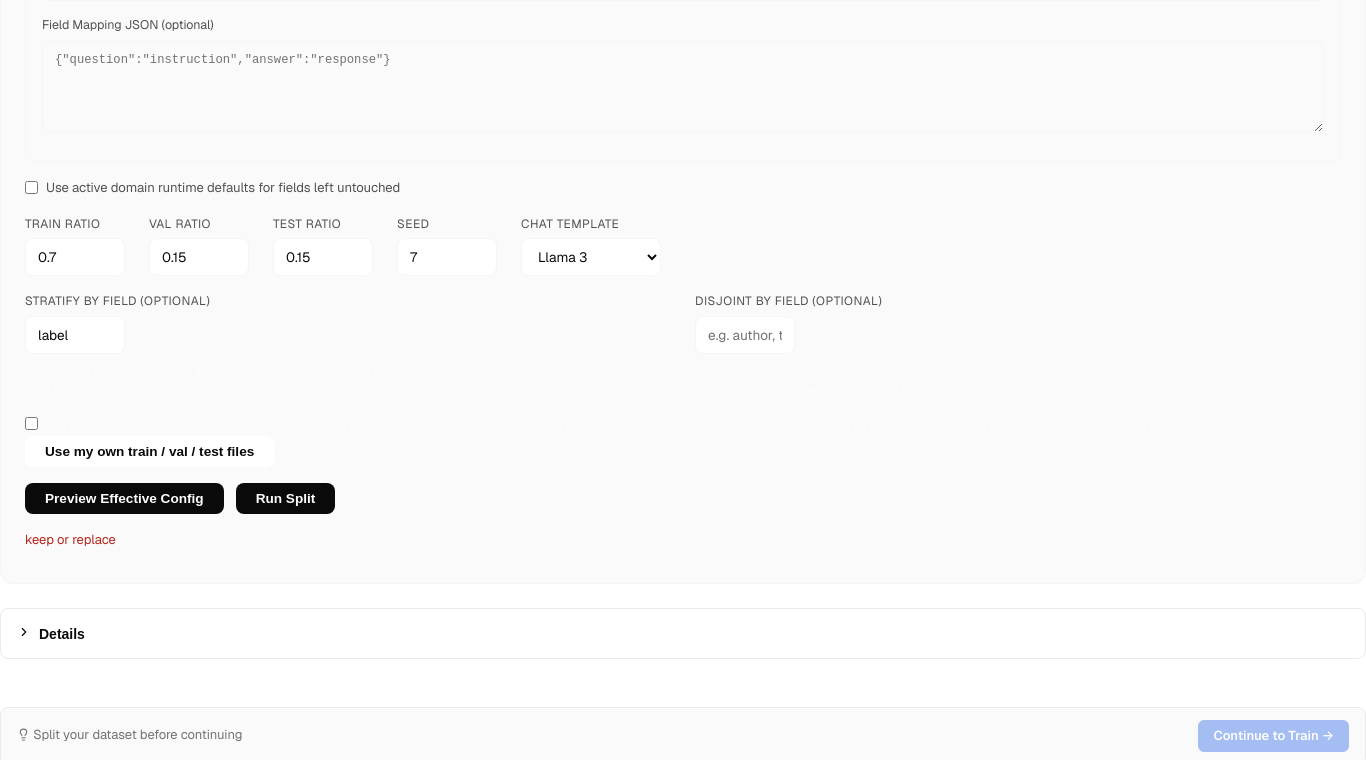
it: DatasetPrepPanel — split-form hydration from the active prepared version › shows the replace option when the split fails with the would-be-replaced 409
(page scrolled)
Click the button "Run Split": (285, 499) [236, 483, 335, 514]
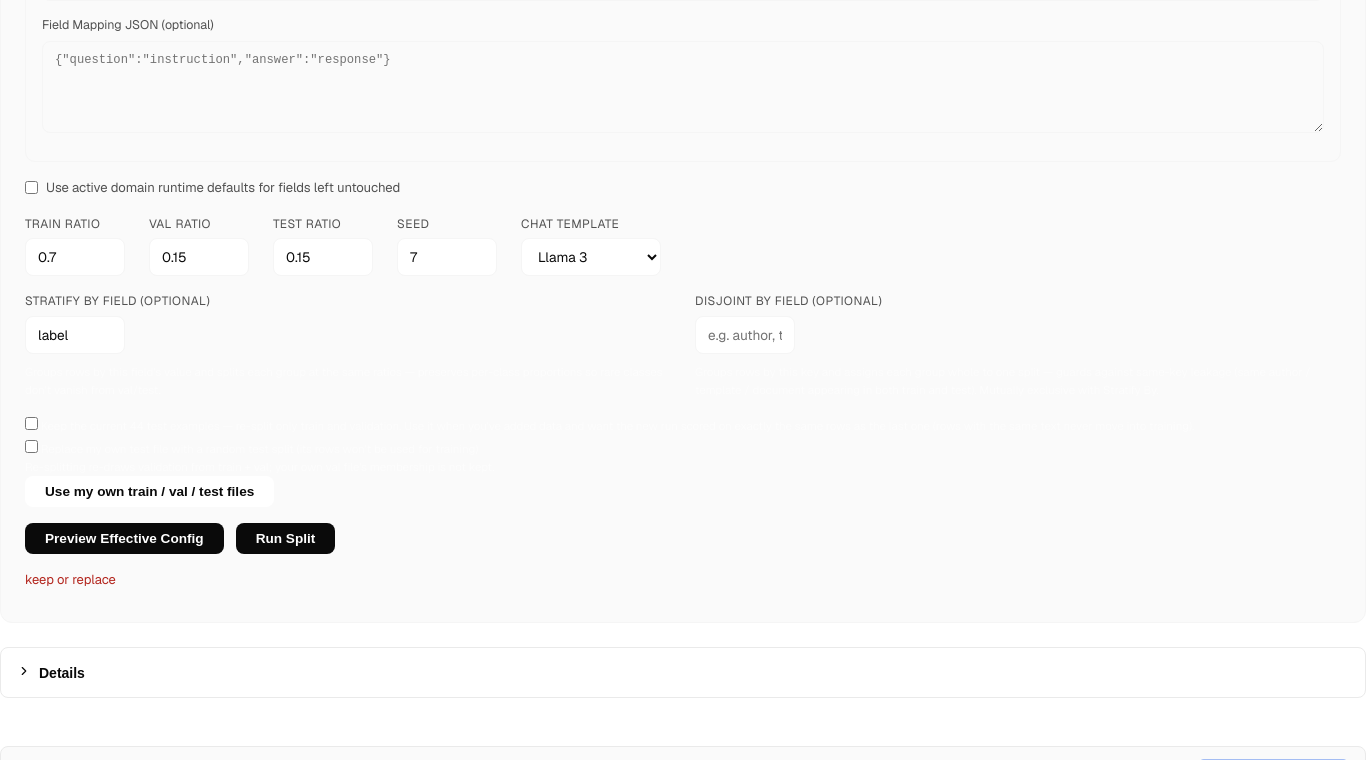
Expected: the checkbox with test id "split-discard-predefined-test" is shown, [25, 440, 38, 453]
